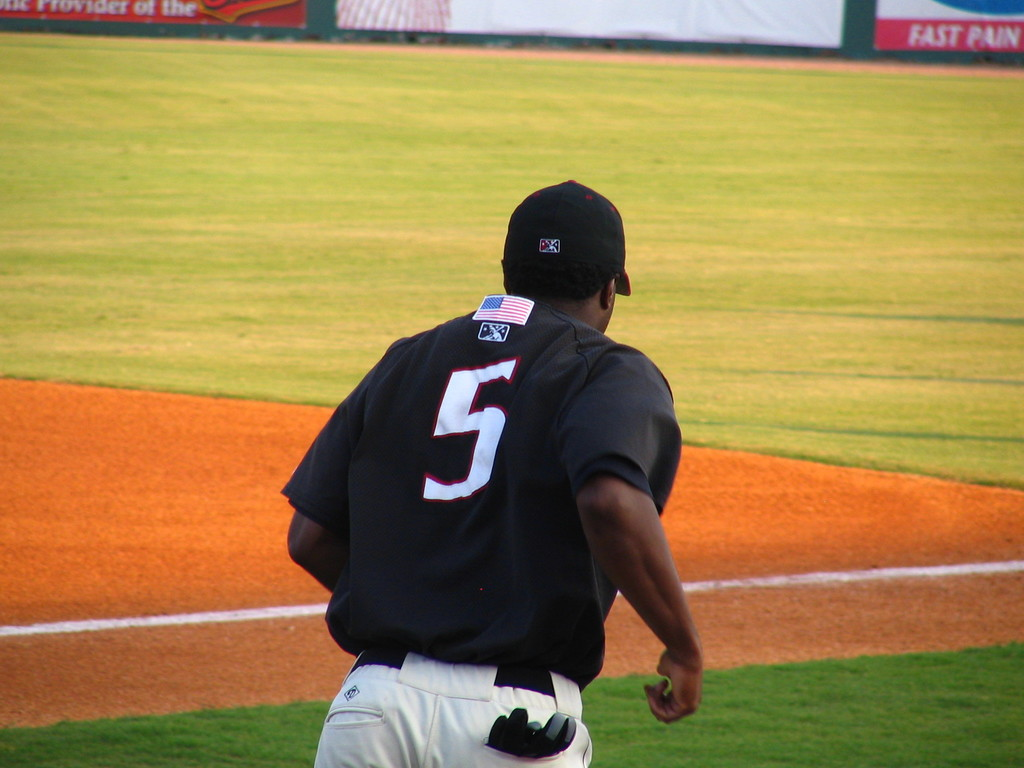Human_hand: (641, 639, 703, 720)
